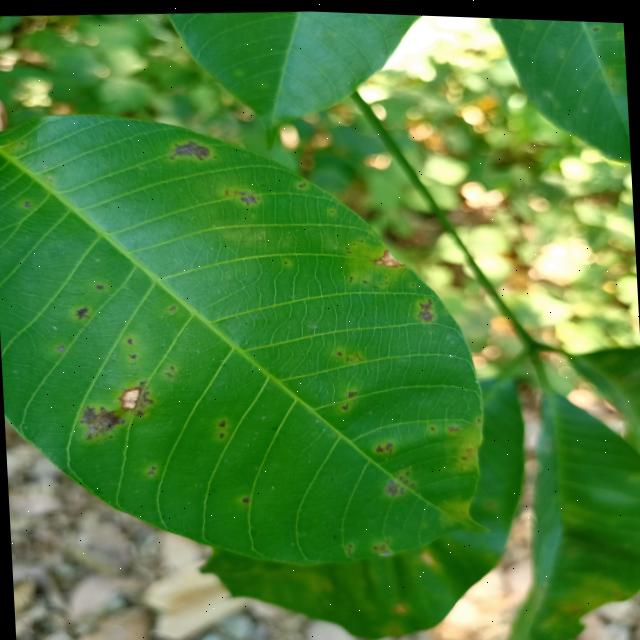Colletotrichum: (219, 419, 227, 425), (96, 284, 105, 289), (242, 496, 250, 501), (58, 346, 66, 351), (220, 431, 226, 437), (25, 201, 31, 207), (299, 181, 307, 185), (128, 338, 133, 344), (336, 349, 342, 353), (131, 354, 137, 358), (148, 470, 154, 474), (152, 465, 156, 469), (170, 365, 174, 368), (349, 275, 354, 277), (348, 249, 352, 251), (21, 143, 25, 145), (364, 278, 367, 280), (353, 240, 356, 242), (346, 245, 349, 247), (412, 280, 414, 283), (285, 259, 287, 261), (350, 278, 352, 280), (385, 274, 387, 276), (347, 355, 349, 357), (346, 357, 348, 359), (386, 280, 388, 281)
Leaf-Blight: (374, 246, 404, 266), (120, 385, 142, 409)
